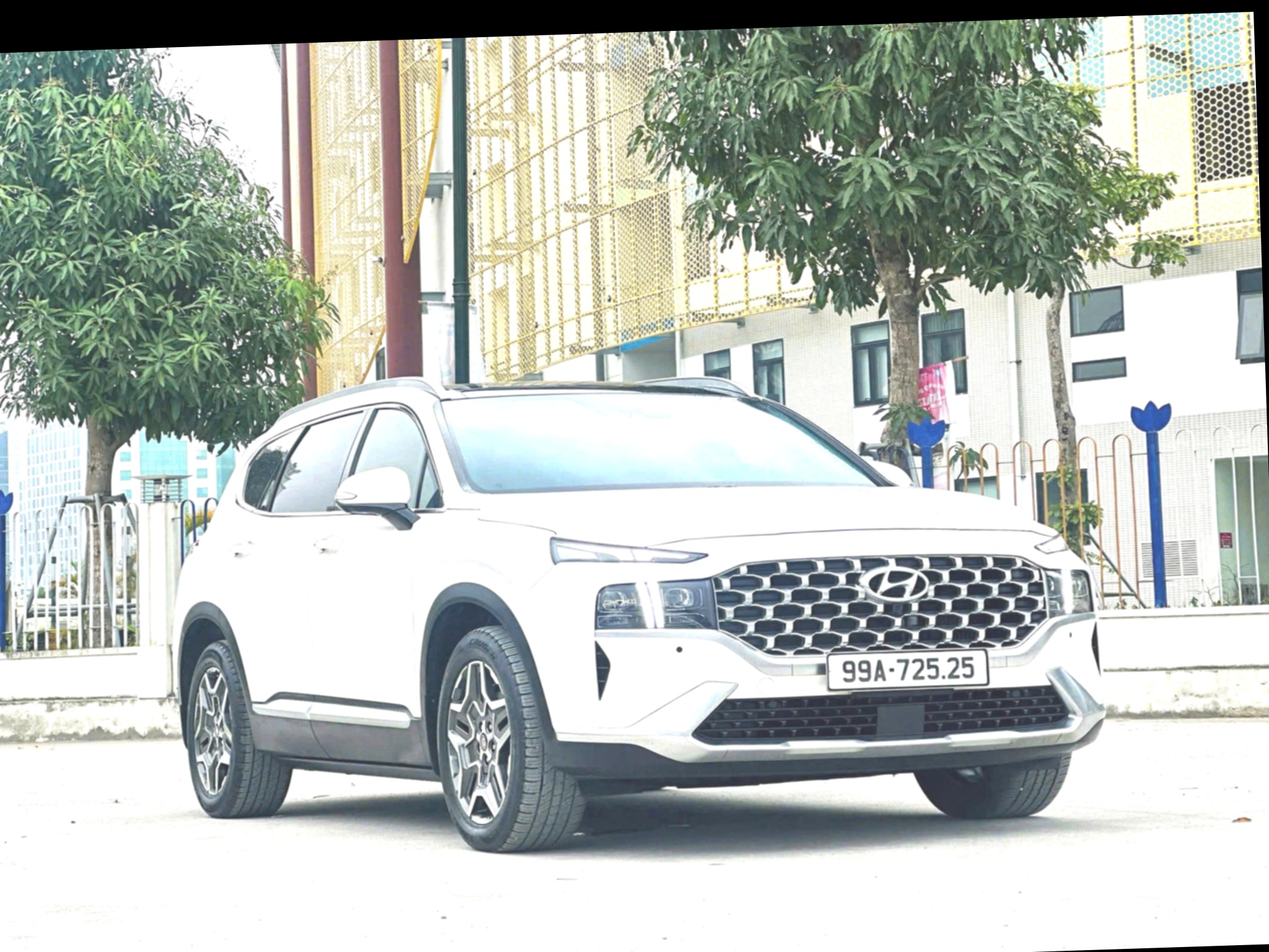Bien-so: (832, 674, 994, 714)
